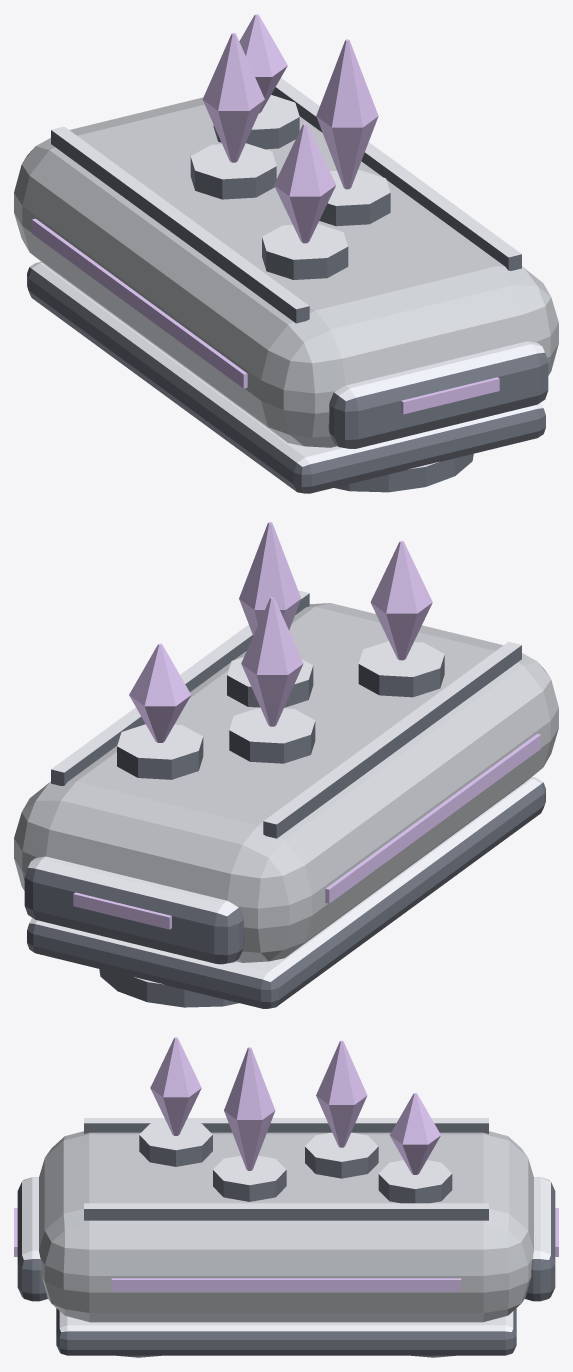
Rendered from PR_Vagoneta_Capsula.fbx.
The picture shows the model from 3 angles, top to bottom: view 1: azimuth 30°, elevation 25°; view 2: azimuth 150°, elevation 25°; view 3: azimuth 270°, elevation 25°; orthographic projection. The views are drawn at different scales.
Visible parts, largest first — view 1: PR_Vagoneta_Capsula; view 2: PR_Vagoneta_Capsula; view 3: PR_Vagoneta_Capsula.
Boxes of the visible parts, <box> form: PR_Vagoneta_Capsula: <box>14,14,558,493</box>; PR_Vagoneta_Capsula: <box>14,522,558,1008</box>; PR_Vagoneta_Capsula: <box>14,1037,558,1357</box>.
Size of the model in its own units: 1.54 by 1.76 by 2.96.
